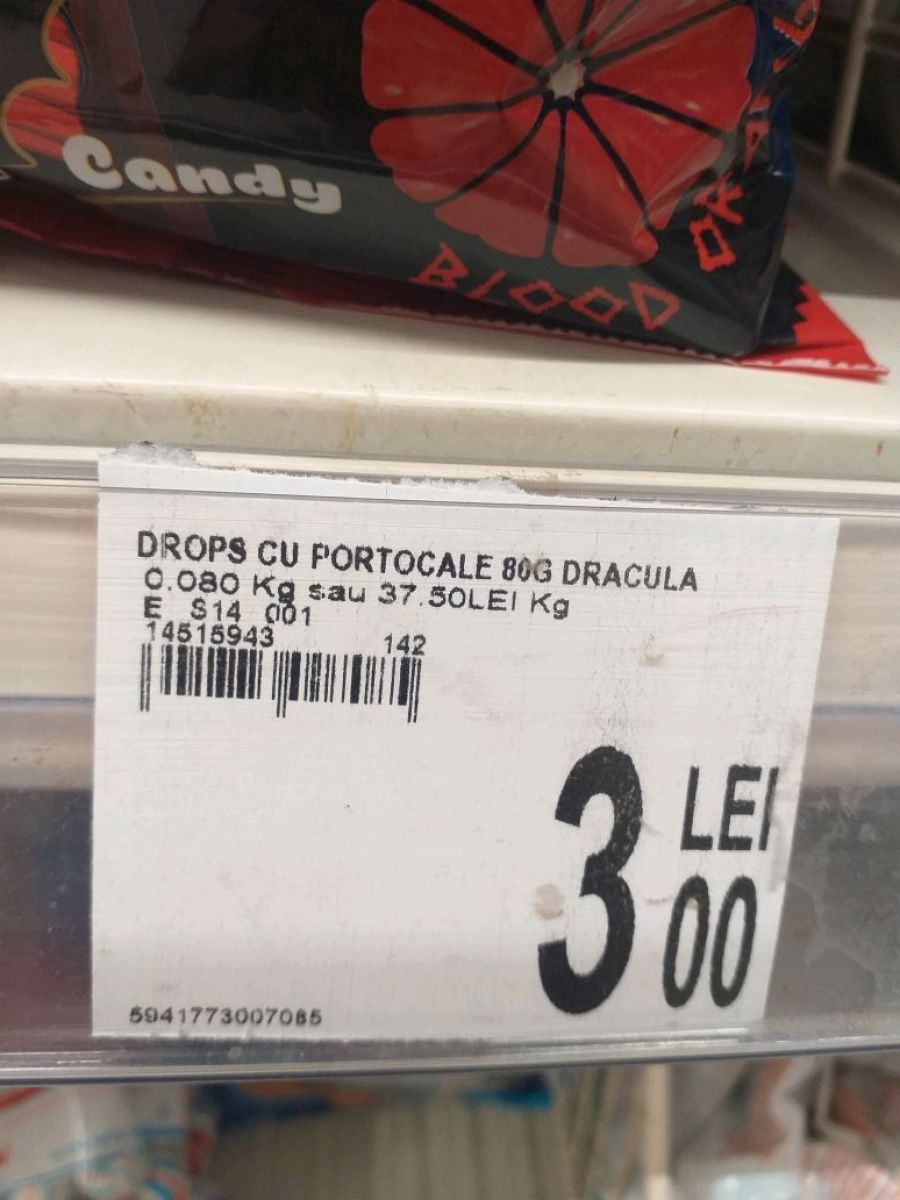bardcode: (121, 998, 329, 1034)
list: (78, 443, 858, 1053)
name: (134, 522, 703, 594)
price: (535, 739, 785, 1021)
